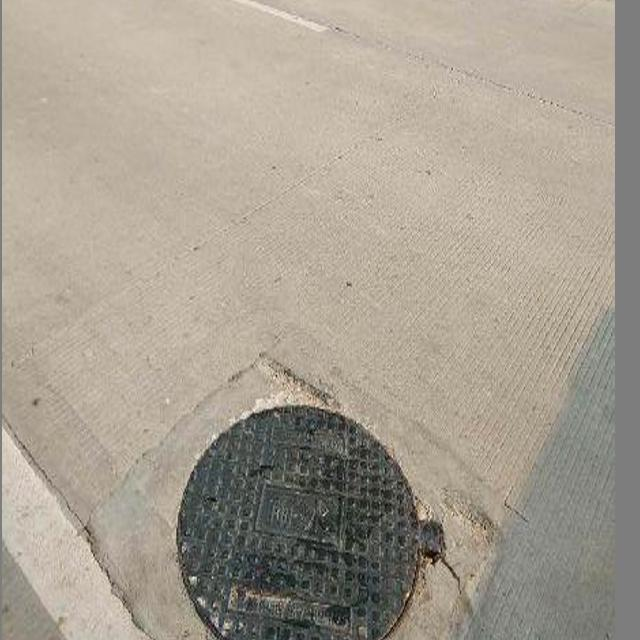good: (82, 348, 504, 640)
